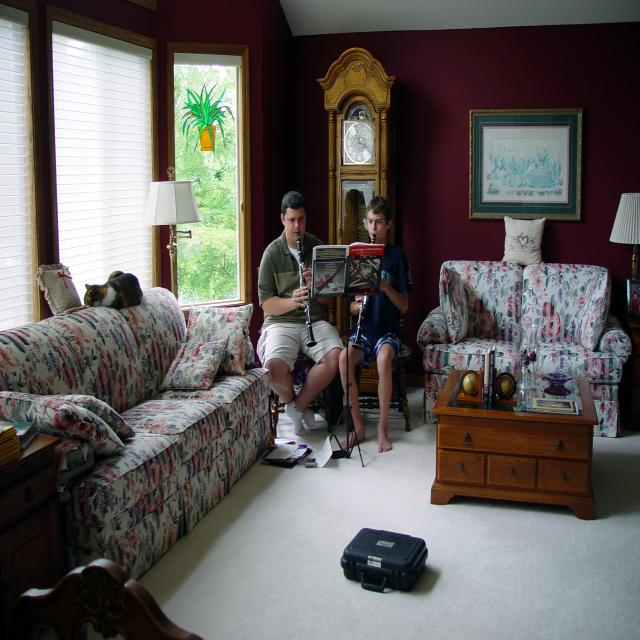clarinet: (352, 235, 376, 352), (295, 234, 319, 347)
